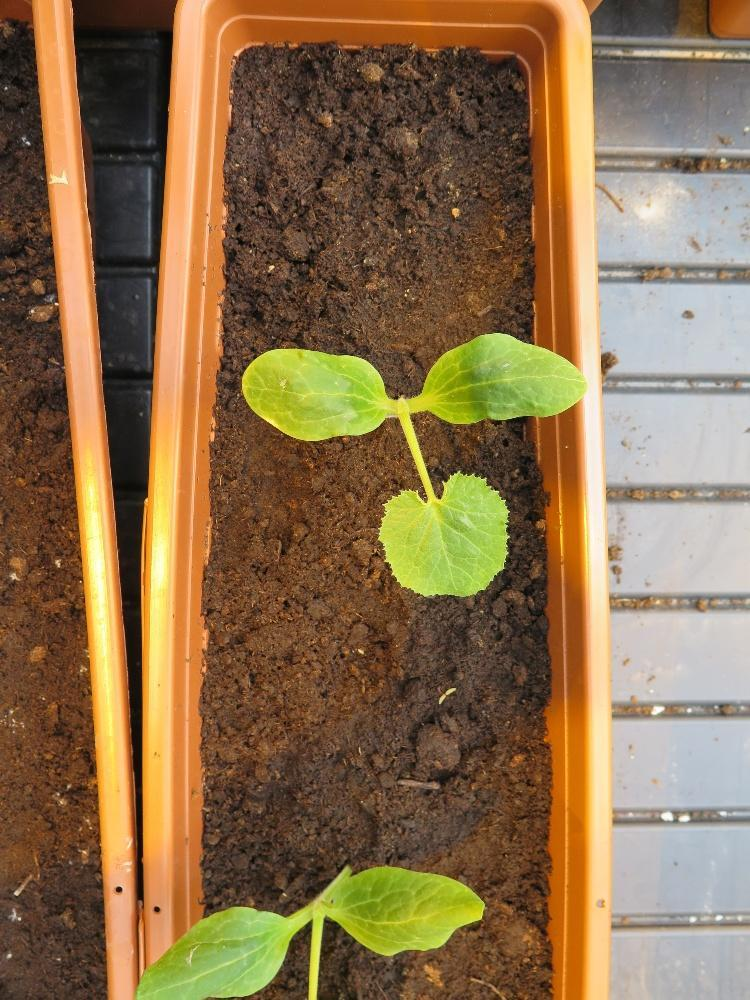crop: (233, 328, 589, 608)
weed: (436, 684, 457, 707)
